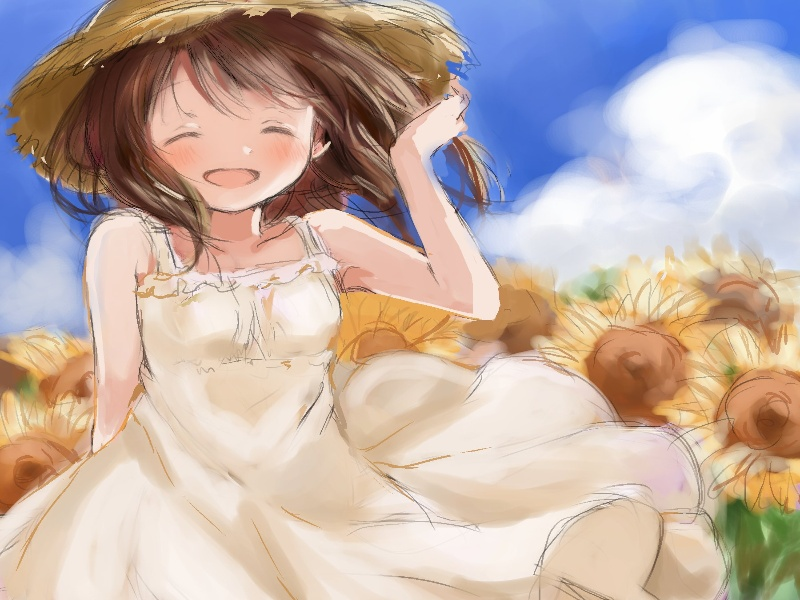person: (107, 56, 345, 227)
